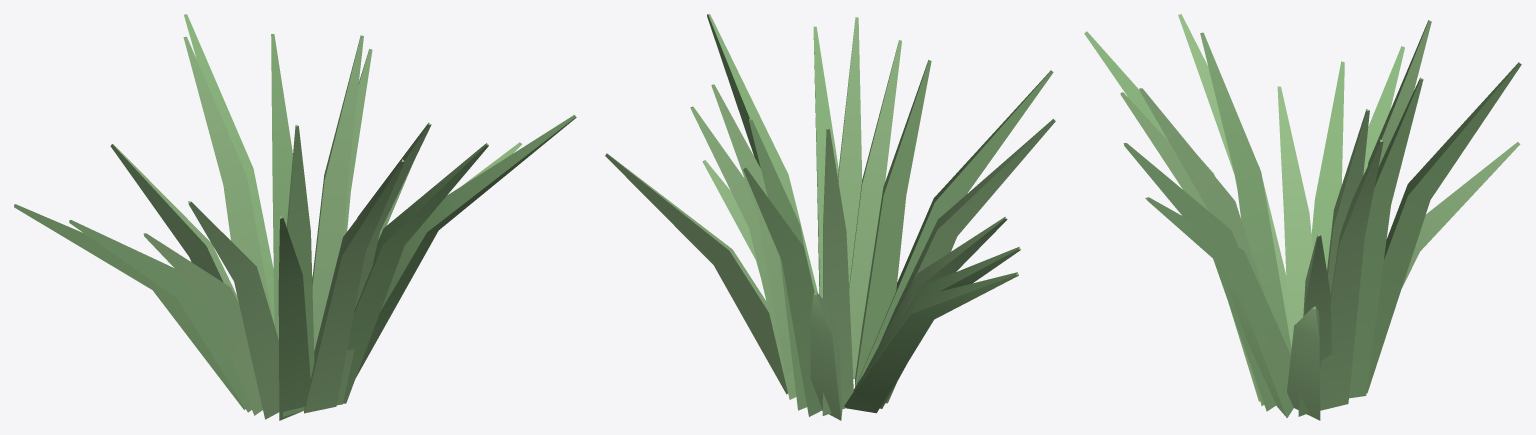
Rendered from tufts.glb.
3 views of the same model, side by side, from view 1: azimuth 30°, elevation 25°; view 2: azimuth 150°, elevation 25°; view 3: azimuth 270°, elevation 25° (orthographic). The views are drawn at different scales.
Parts seen in each view (by area): view 1: tuft_1, tuft_0; view 2: tuft_0, tuft_1; view 3: tuft_0, tuft_1.
Boxes of the visible parts, x1,y1,x2,y2 form: tuft_1: [69, 34, 488, 420]; tuft_0: [14, 14, 576, 419]; tuft_0: [605, 14, 1055, 416]; tuft_1: [690, 26, 1053, 420]; tuft_0: [1139, 14, 1521, 420]; tuft_1: [1084, 31, 1520, 416].
Bounding box in the file's own units: 0.7424 × 0.5088 × 0.5729.
